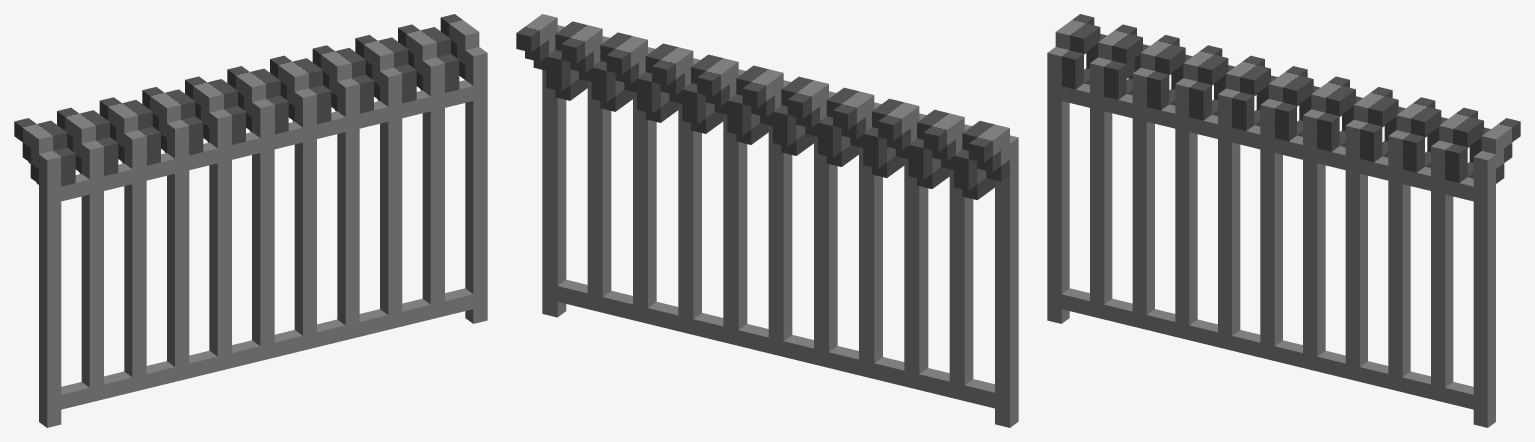
Rendered from obj_fence5.fbx.
The picture shows the model from 3 angles, left to right: view 1: azimuth 30°, elevation 25°; view 2: azimuth 150°, elevation 25°; view 3: azimuth 330°, elevation 25°; orthographic projection. The views are drawn at different scales.
Parts seen in each view (by area): view 1: obj_fence5; view 2: obj_fence5; view 3: obj_fence5.
Boxes of the visible parts, bbox=[...] form: obj_fence5: bbox=[14, 14, 487, 427]; obj_fence5: bbox=[516, 14, 1018, 427]; obj_fence5: bbox=[1047, 14, 1520, 427].
Bounding box in the file's own units: 3.1 × 0.4 × 1.9.
Materials: 1 (1 with a texture image).
